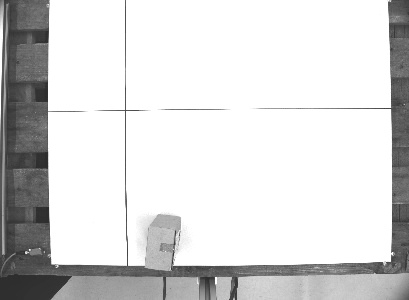b6: (142, 212, 182, 272)
